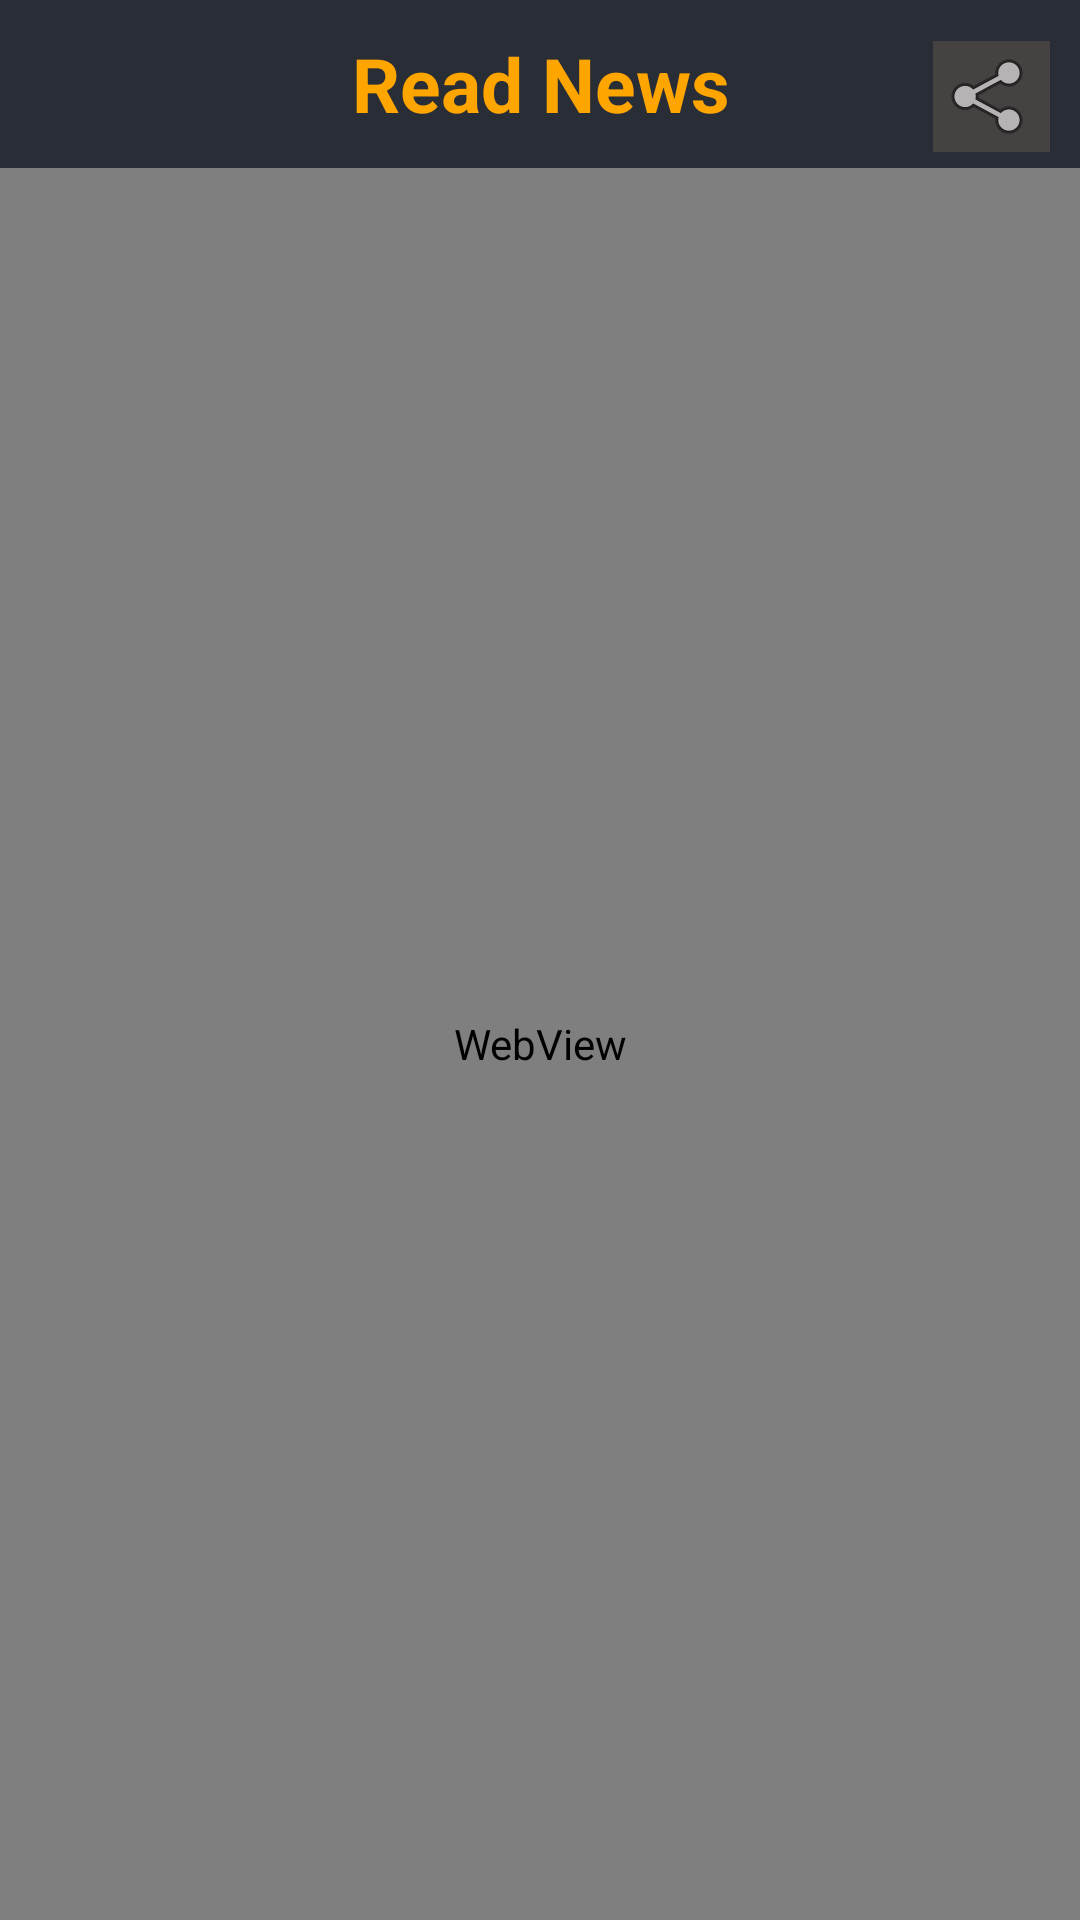

Locate icon controls on the screen. Image size 1080 × 1920, boxes as (left=x1, top=y1, right=x2, bottom=y2).
share: (left=933, top=41, right=1050, bottom=152)
